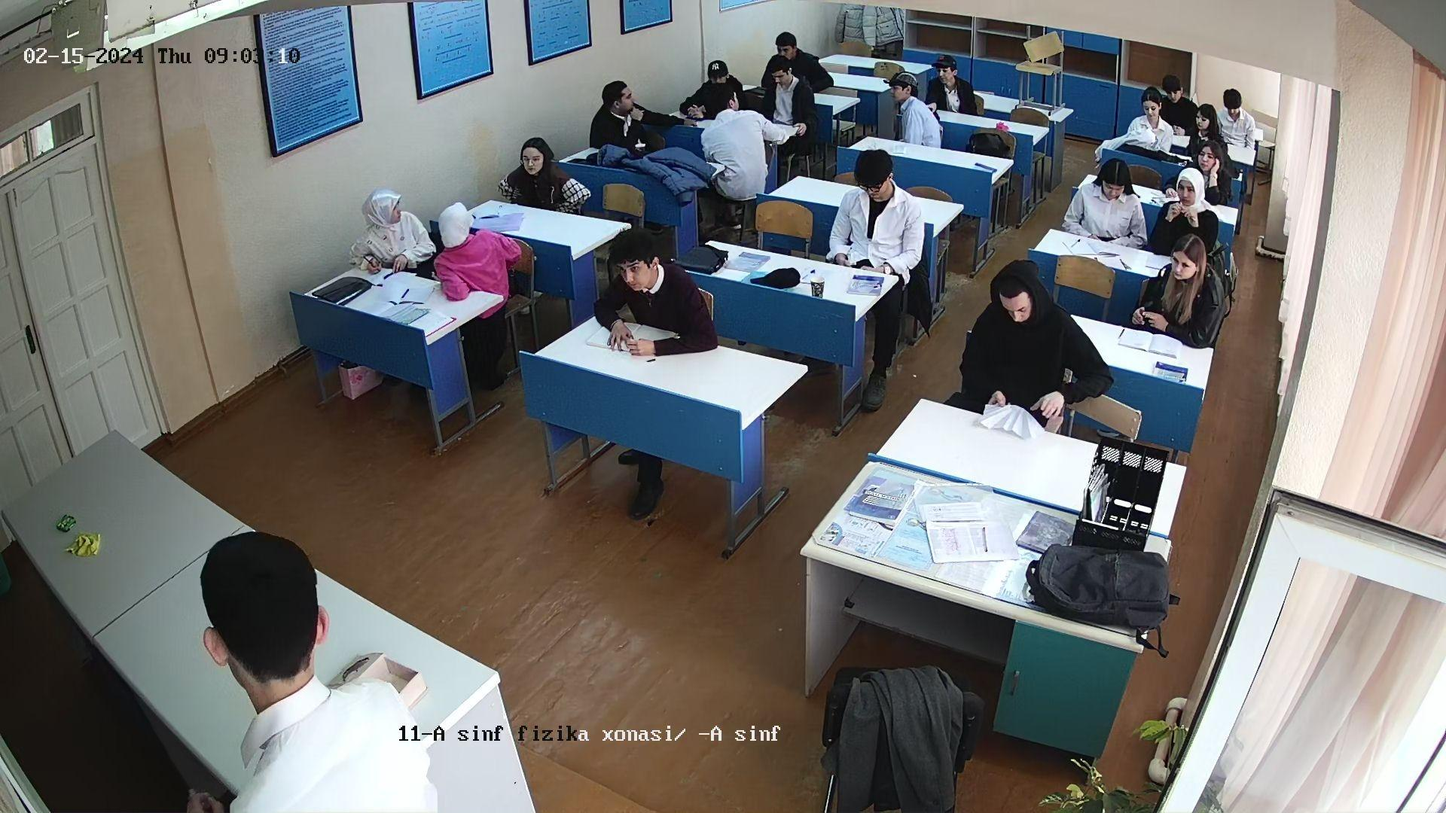Look Around: (705, 91, 769, 203), (354, 187, 430, 276), (440, 203, 510, 294), (592, 77, 660, 156)
Normal: (598, 228, 704, 359), (884, 72, 936, 146)
Stand Up: (190, 527, 443, 813)
phone: (832, 248, 884, 280)
